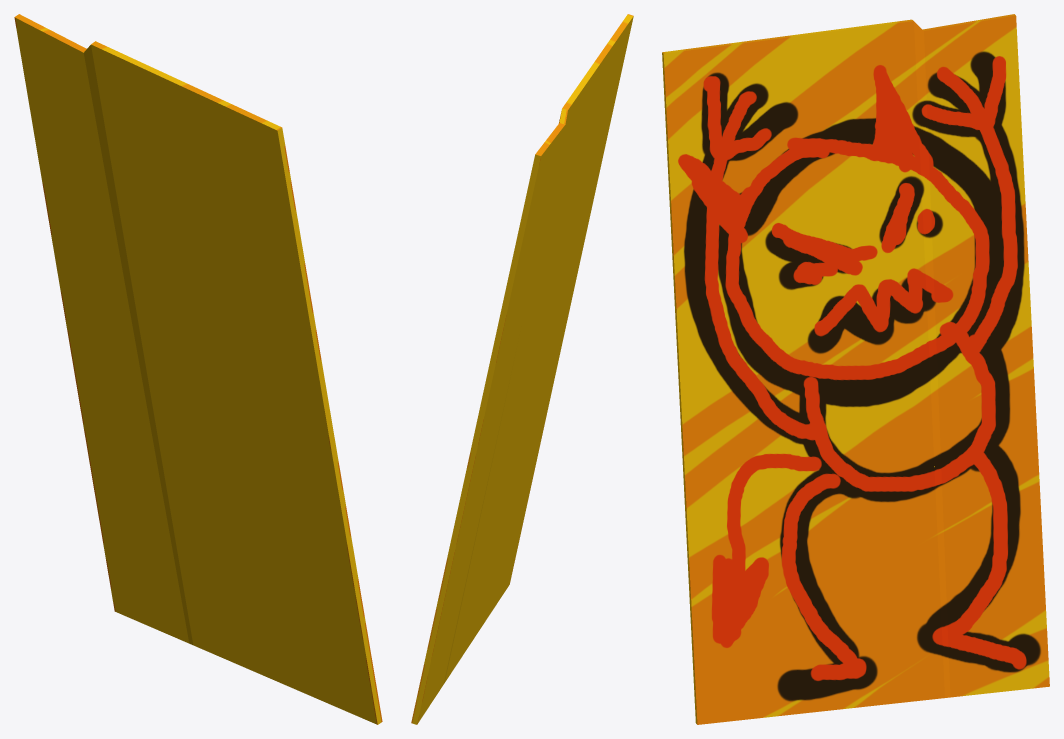
File: znak_bestia1.fbx
The picture shows the model from 3 angles, left to right: view 1: azimuth 30°, elevation 25°; view 2: azimuth 150°, elevation 25°; view 3: azimuth 270°, elevation 25°; orthographic projection. The views are drawn at different scales.
Visible parts, largest first — view 1: Plane.007; view 2: Plane.007; view 3: Plane.007.
Boxes of the visible parts, x1,y1,x2,y2 form: Plane.007: (14,14,382,724); Plane.007: (411,14,633,724); Plane.007: (662,14,1049,724).
Bounding box in the file's own units: 46.02 × 138 × 78.13.
